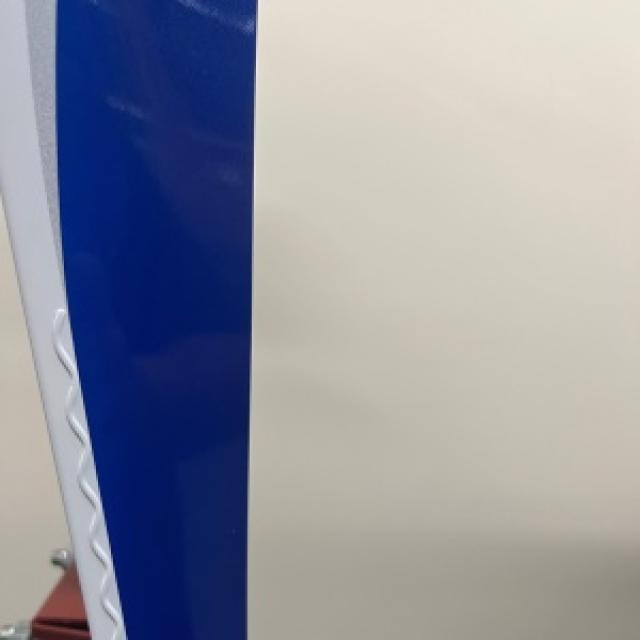healthy: (0, 0, 254, 638), (0, 222, 64, 619)
